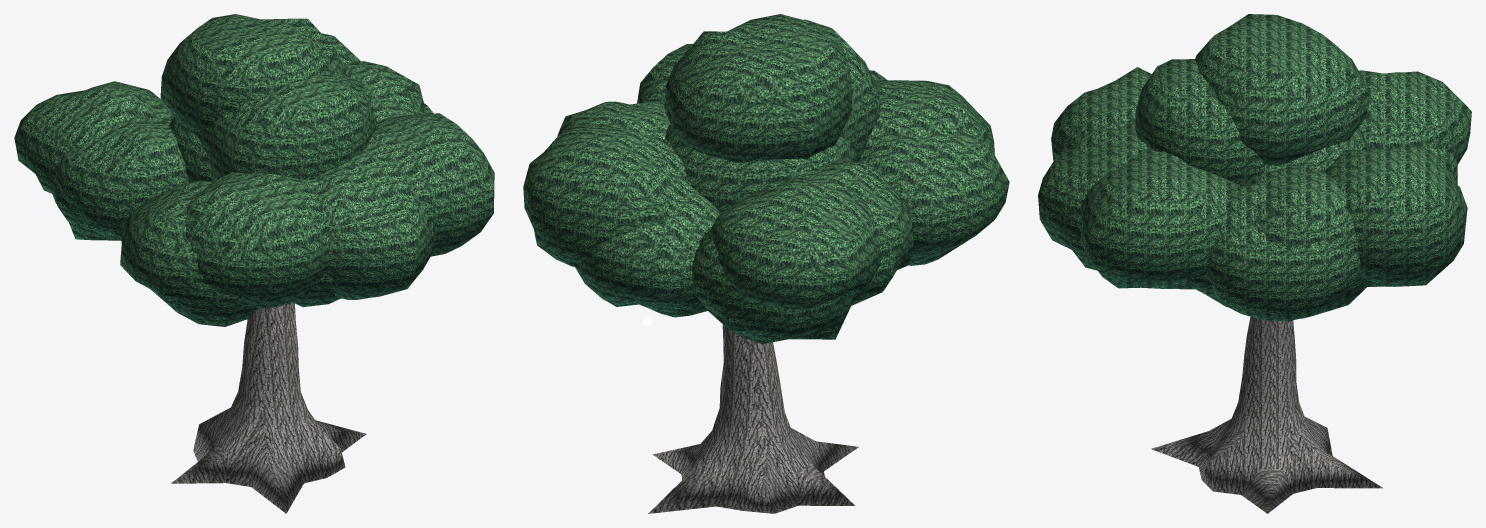
File: giant_tree.glb
3 views of the same model, side by side, from view 1: azimuth 30°, elevation 25°; view 2: azimuth 150°, elevation 25°; view 3: azimuth 270°, elevation 25° (orthographic). The views are drawn at different scales.
Visible parts, largest first — view 1: GiantTree; view 2: GiantTree; view 3: GiantTree.
Boxes of the visible parts, x1,y1,x2,y2 form: GiantTree: (14,14,494,513); GiantTree: (523,14,1009,513); GiantTree: (1038,14,1471,513).
Size of the model in its own units: 26.97 by 30.74 by 28.34.
3 materials, 2 textured.
